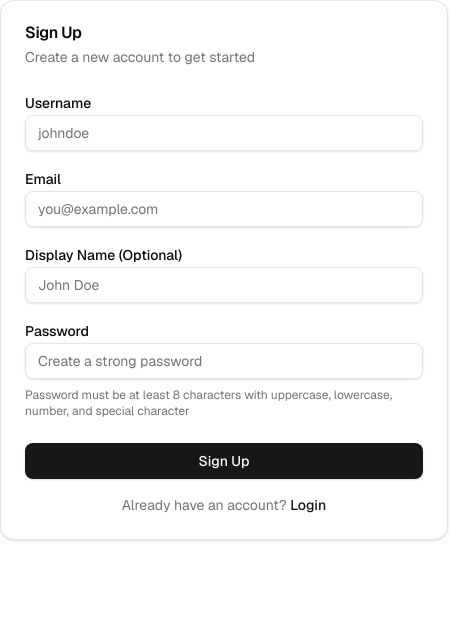
Test: SignupForm › validates username format
# Test short username
Step 1. Type "ab" into the field labelled "Username" → [224, 133], box [25, 115, 423, 151]
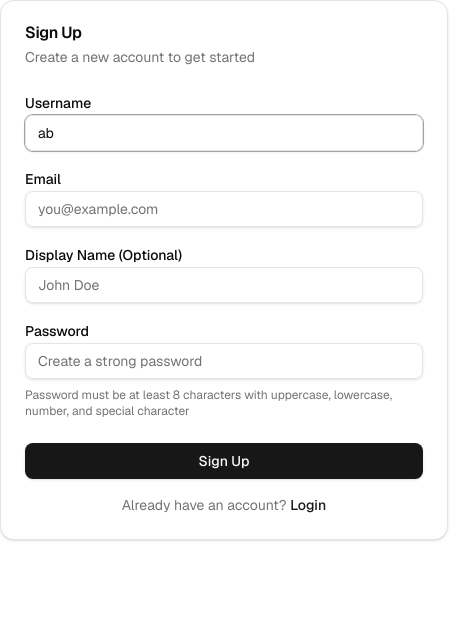
Step 2. Click the button "Sign Up" → [224, 461], box [25, 443, 423, 479]
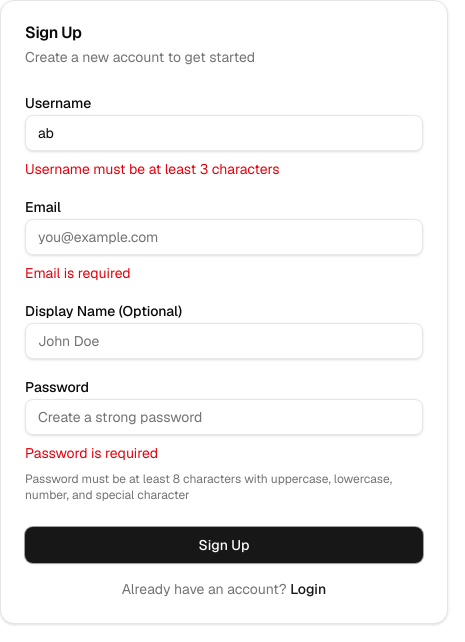
Now the text "Username must be at least 3 characters" is shown, box [25, 160, 280, 178]
# Test invalid characters
Step 3. Replace the text in the field labelled "Username" with "user@name" → [224, 133], box [25, 115, 423, 151]
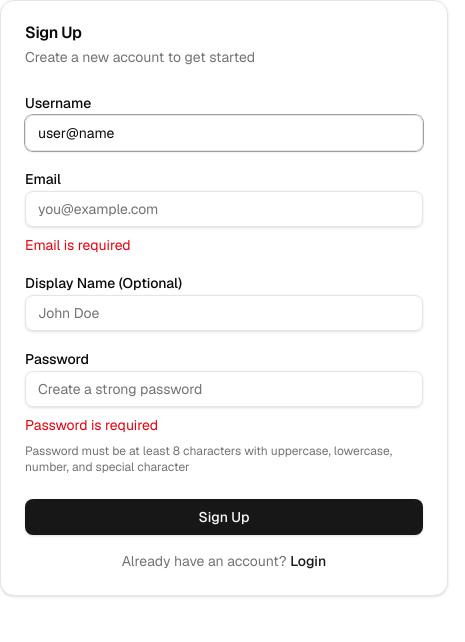
Step 4. Click the button "Sign Up" → [224, 517], box [25, 499, 423, 535]
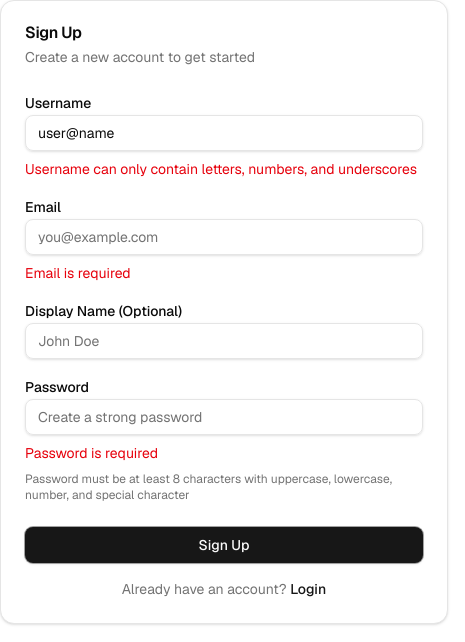
Now the text "Username can only contain letters, numbers, and underscores" is shown, box [25, 159, 423, 179]
